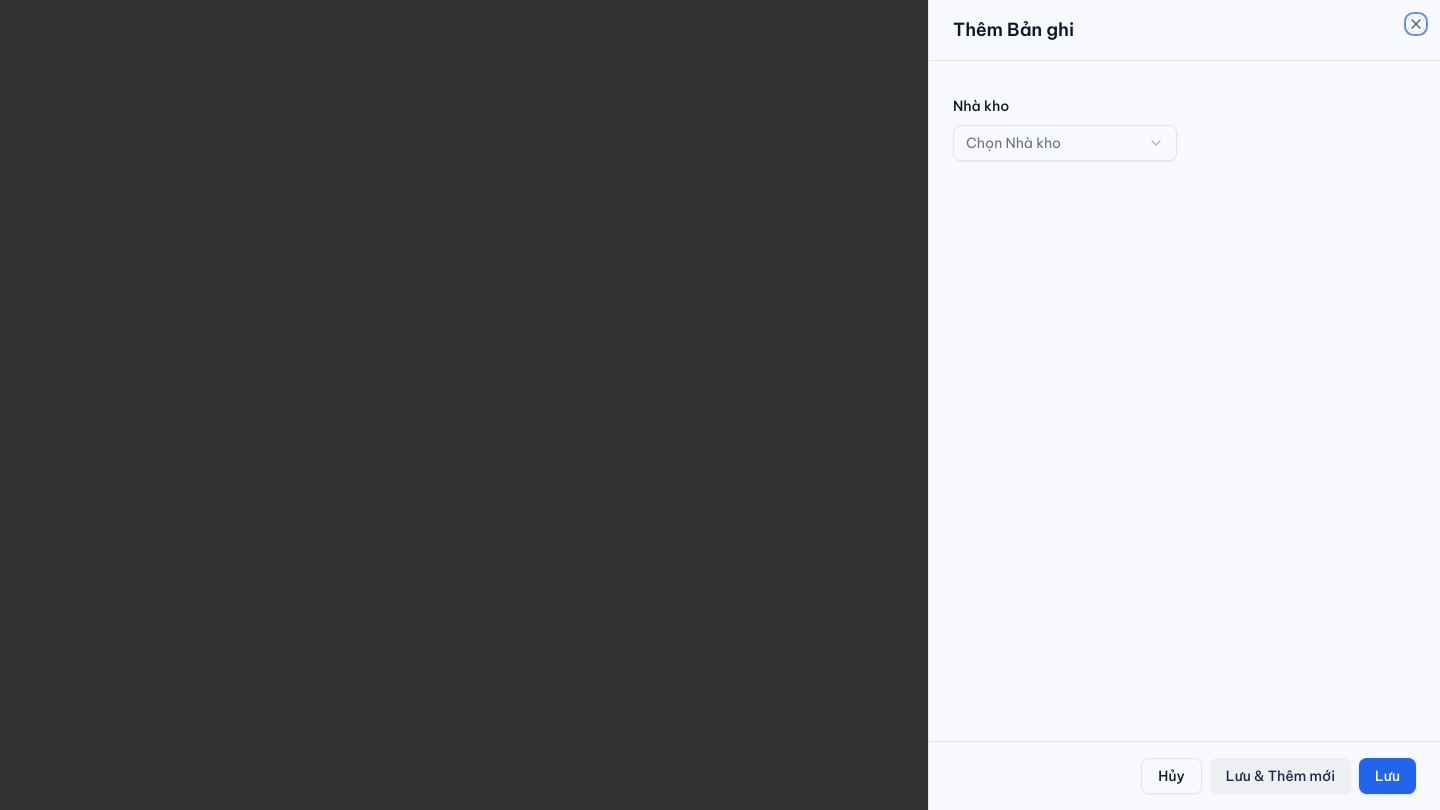
Test: CrudSheet submission › loads asynchronous select options when opened
Click the dropdown. click: (1065, 143)
box: top-left (953, 125), bottom-right (1176, 161)
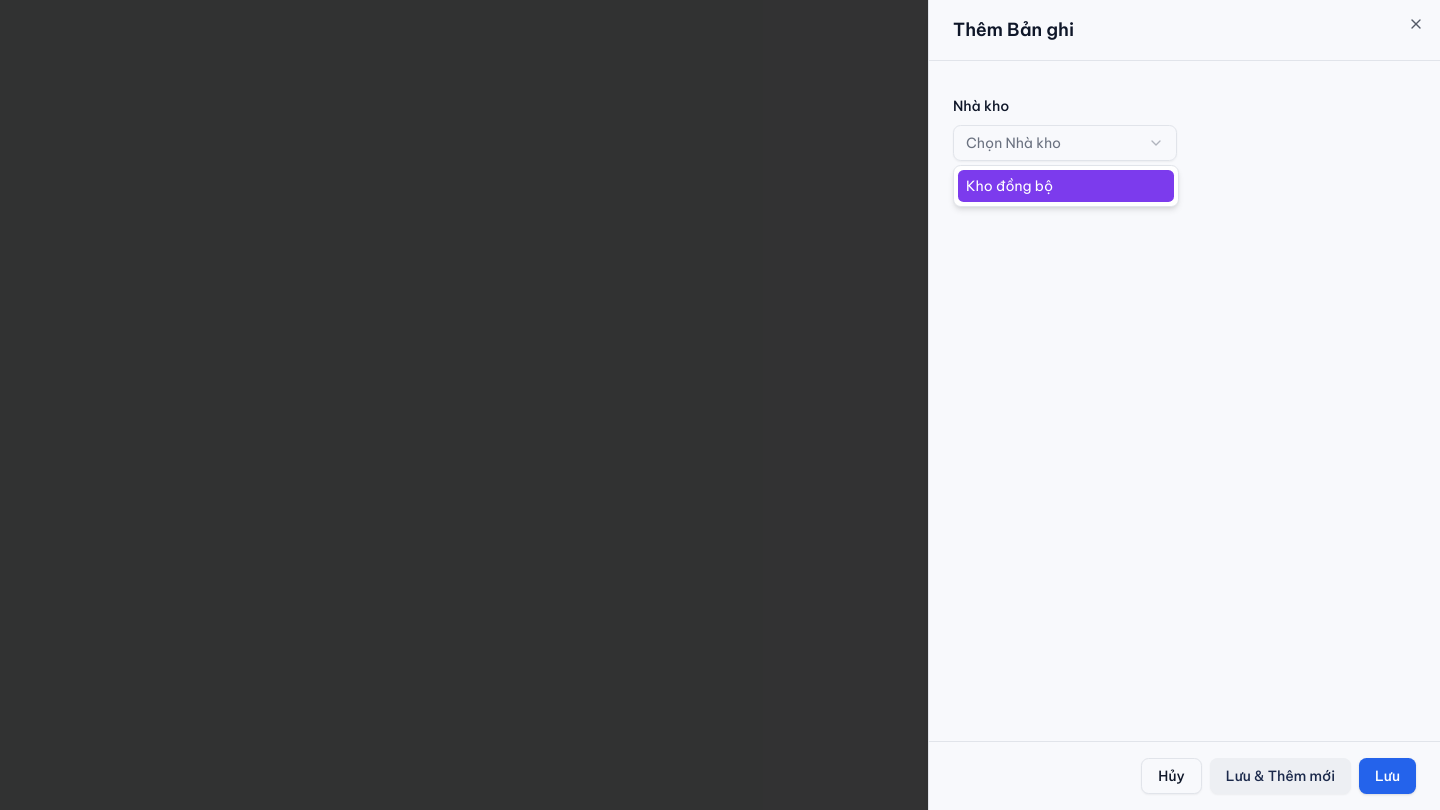
Result: the option "Kho đồng bộ" is shown at top-left (958, 170), bottom-right (1174, 202)
